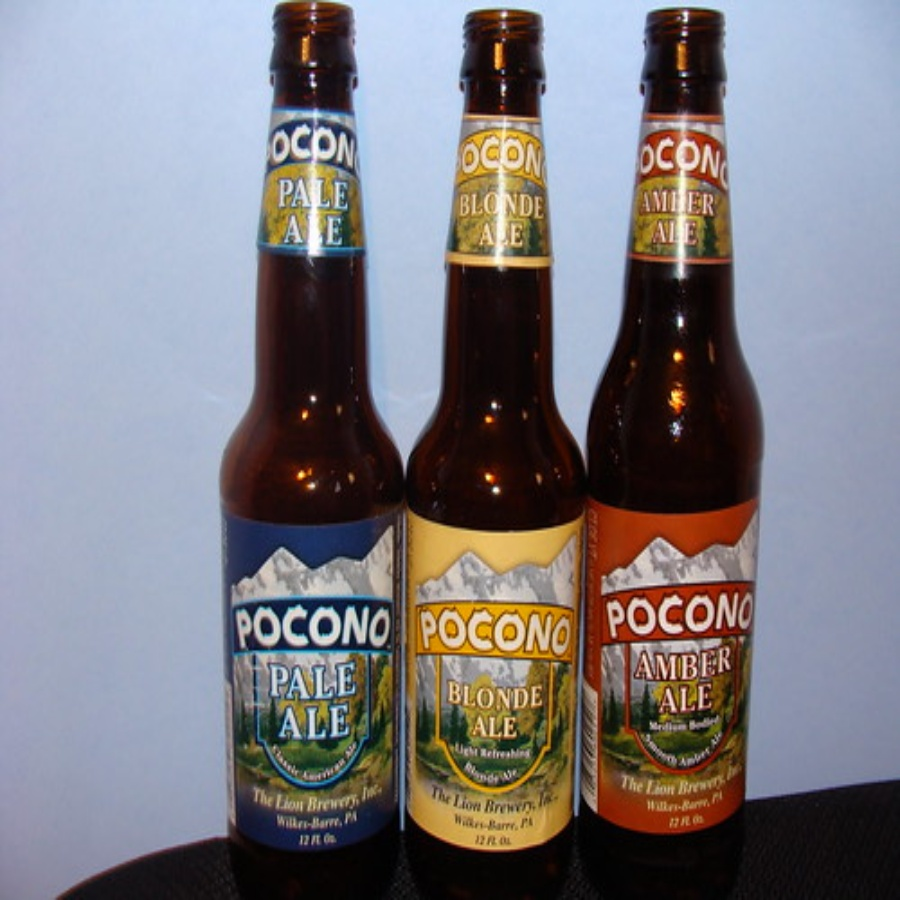beer: (586, 21, 764, 869), (227, 15, 396, 865), (409, 10, 575, 874)
